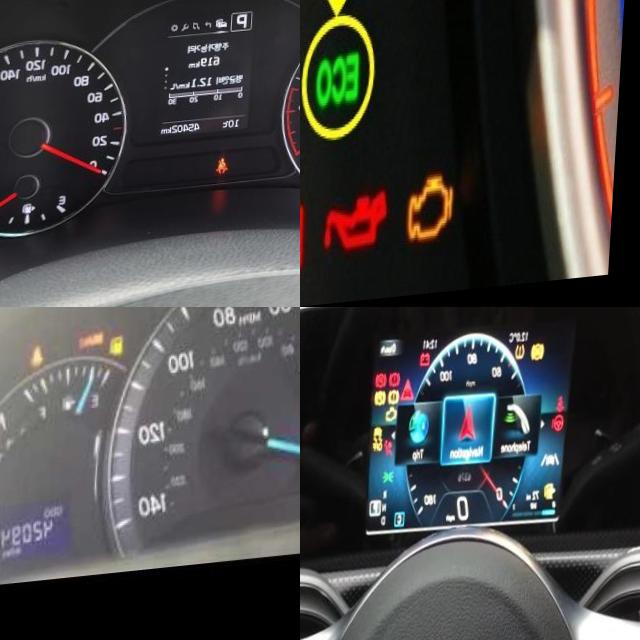Seat Belt: (36, 347, 47, 369)
